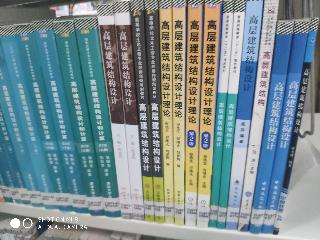book-spine: (14, 23, 72, 213), (270, 17, 320, 234), (259, 19, 309, 234), (0, 24, 57, 211), (34, 20, 88, 216), (235, 0, 278, 231), (247, 21, 293, 234), (55, 20, 104, 218), (222, 0, 263, 230), (75, 17, 120, 219), (98, 5, 133, 219), (0, 42, 42, 210), (215, 1, 246, 227), (114, 1, 144, 220), (193, 0, 221, 227), (207, 1, 233, 227), (131, 1, 154, 222), (181, 0, 203, 225), (146, 1, 164, 223), (161, 1, 174, 223), (173, 1, 185, 226)
